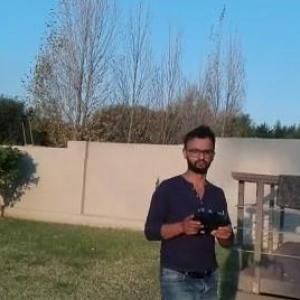follow: (137, 121, 240, 299)
